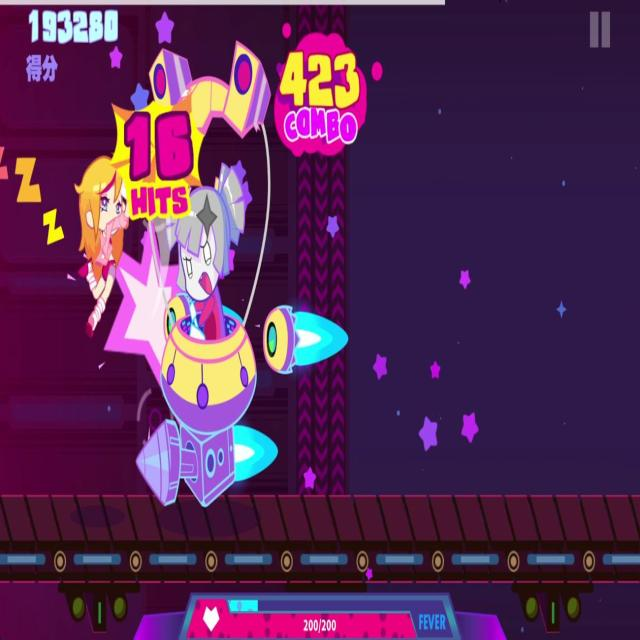qiangboss: (128, 39, 354, 502)
